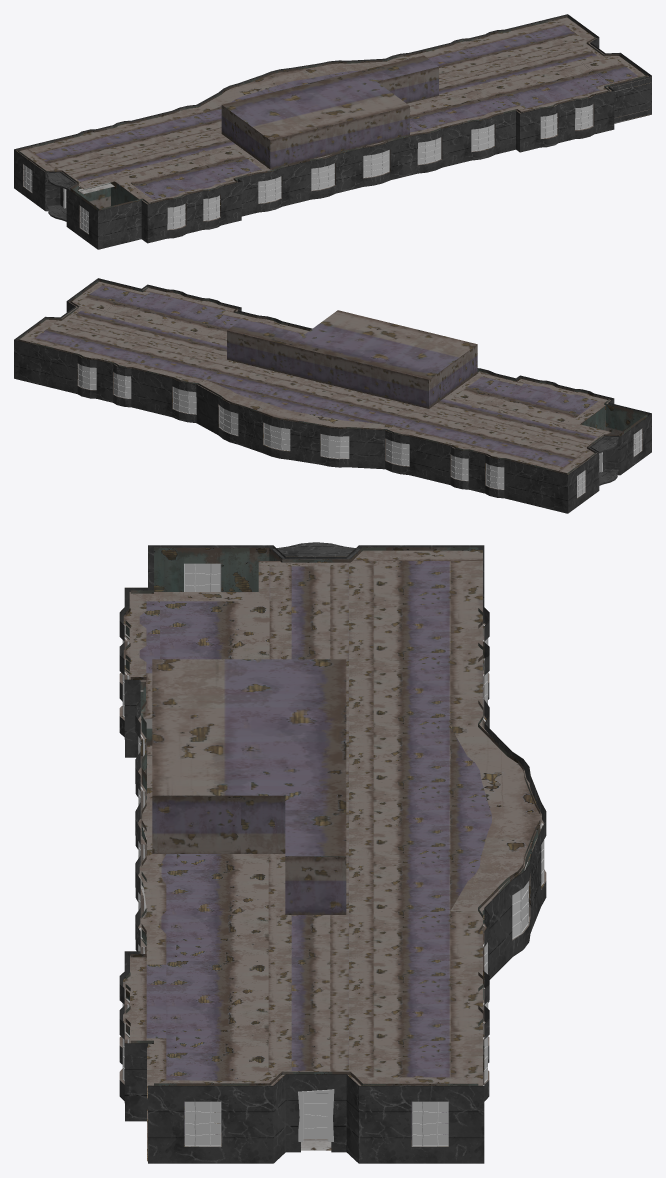
File: SM_Corredor_Piso_4.fbx
3 views of the same model, one above another, from view 1: azimuth 30°, elevation 25°; view 2: azimuth 150°, elevation 25°; view 3: azimuth 270°, elevation 25° (orthographic). The views are drawn at different scales.
Visible parts, largest first — view 1: SM_Corredor_Piso_4; view 2: SM_Corredor_Piso_4; view 3: SM_Corredor_Piso_4.
Part boxes in pixels (left/top/right/bottom): SM_Corredor_Piso_4: left=14, top=14, right=651, bottom=249; SM_Corredor_Piso_4: left=14, top=278, right=651, bottom=513; SM_Corredor_Piso_4: left=119, top=542, right=546, bottom=1163.
Size of the model in its own units: 6419 by 730 by 2123.
